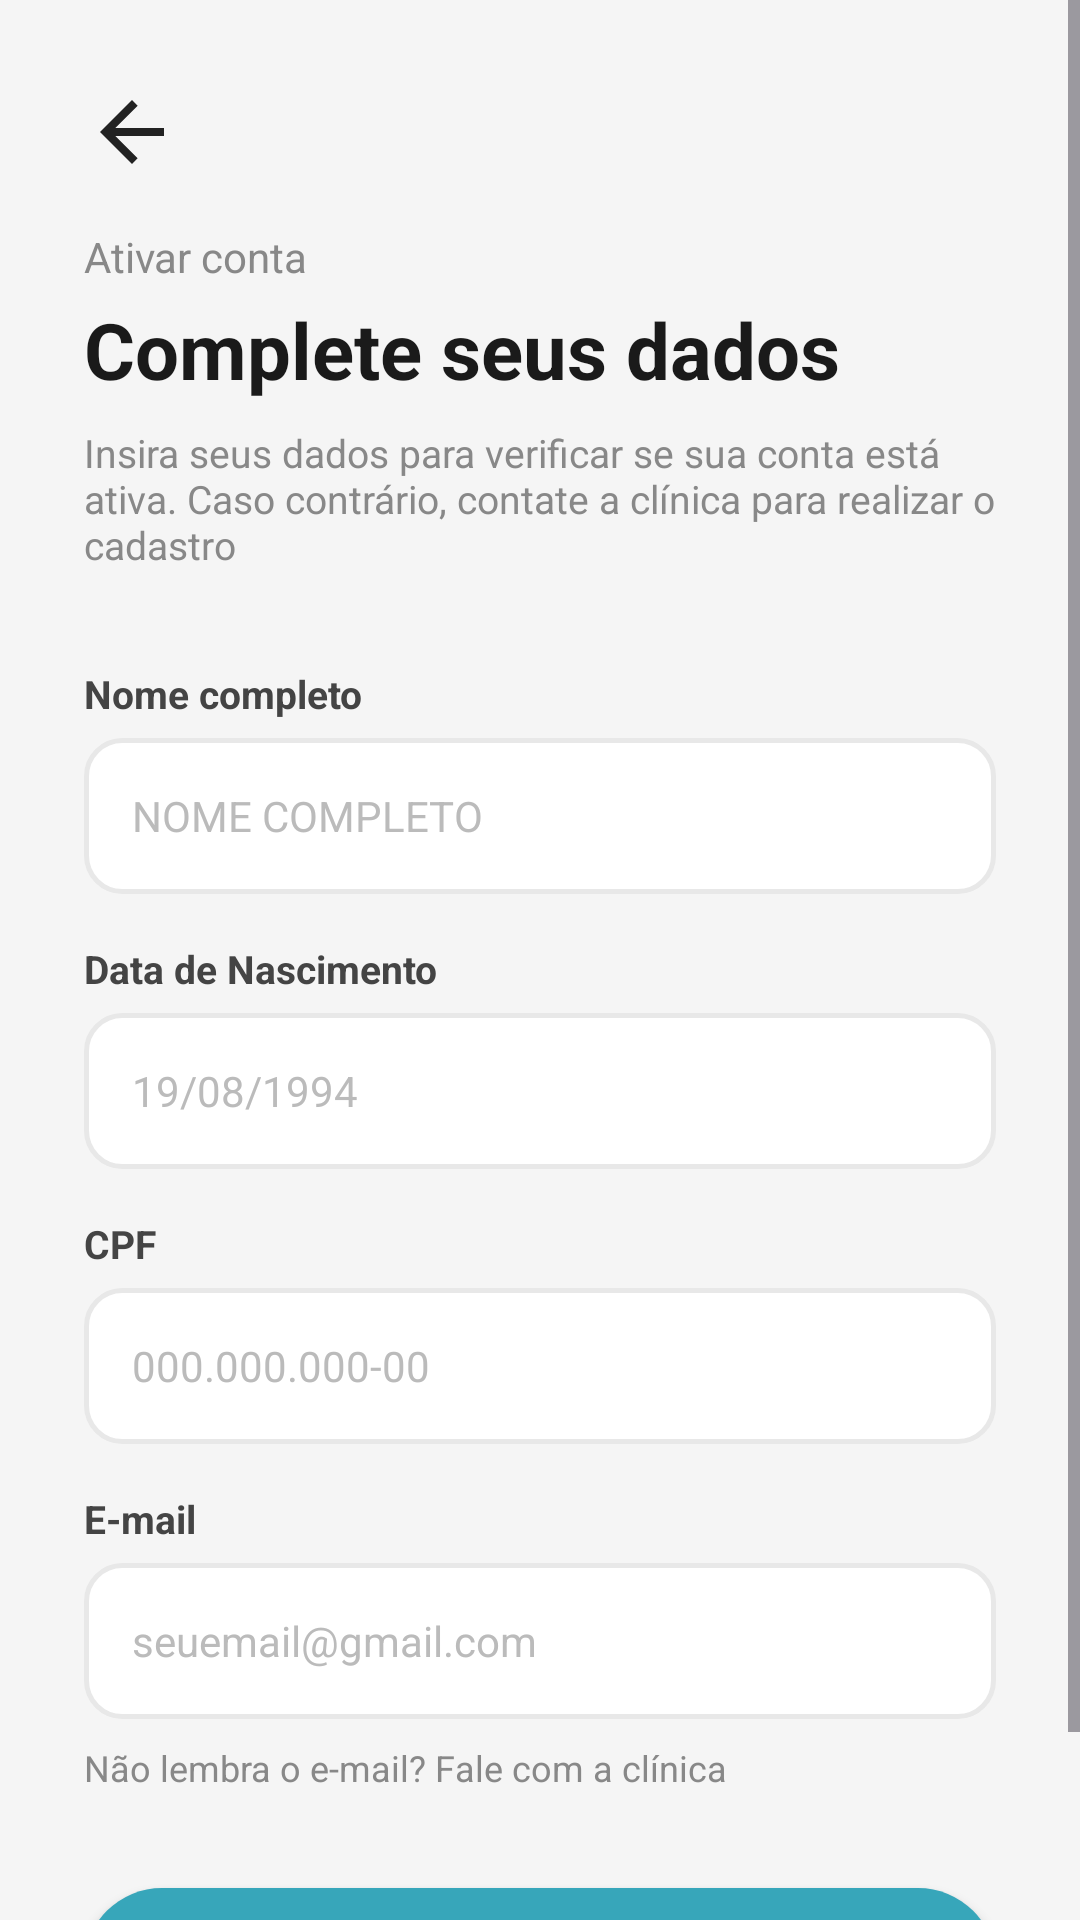

Icon bounding boxes for this 1080*1920 phone screenshot, format (x1, y1, x2, y2):
arrow back: (100, 100, 164, 164)
